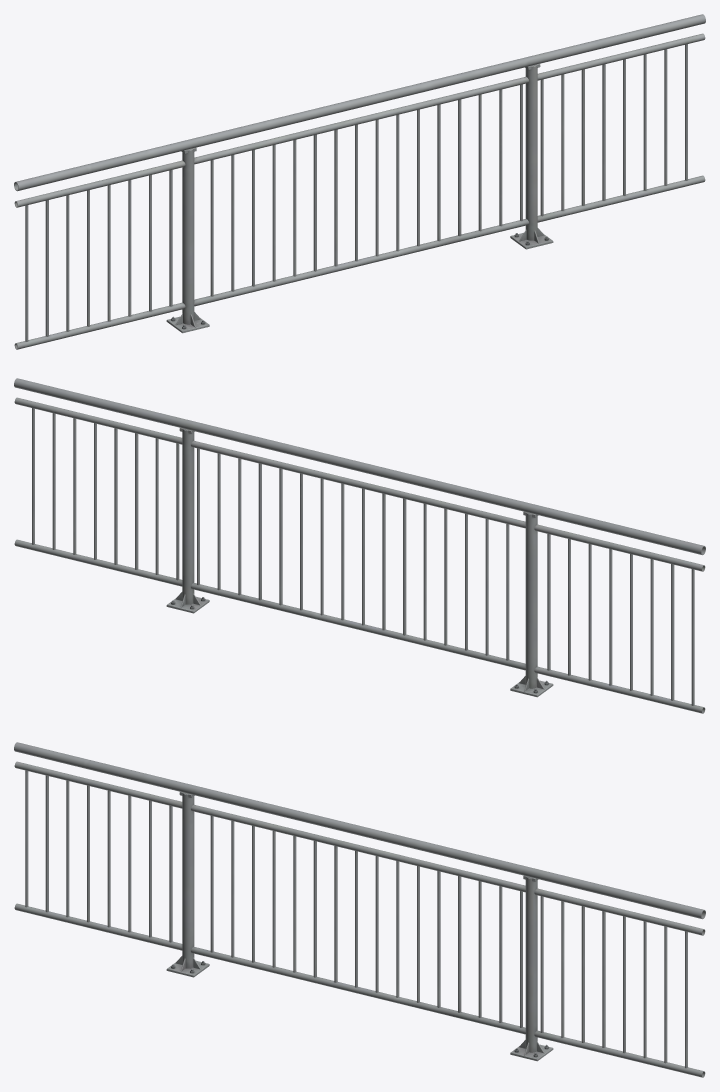
The model's file is metal_railing.glb.
The picture shows the model from 3 angles, top to bottom: view 1: azimuth 30°, elevation 25°; view 2: azimuth 150°, elevation 25°; view 3: azimuth 330°, elevation 25°; orthographic projection.
Parts seen in each view (by area): view 1: metal-railing_body; view 2: metal-railing_body; view 3: metal-railing_body.
Boxes of the visible parts, x1,y1,x2,y2 form: metal-railing_body: [14, 14, 705, 349]; metal-railing_body: [14, 378, 705, 713]; metal-railing_body: [14, 742, 705, 1077].
Size of the model in its own units: 4 by 1.02 by 0.1602.
1 material, 1 textured.
